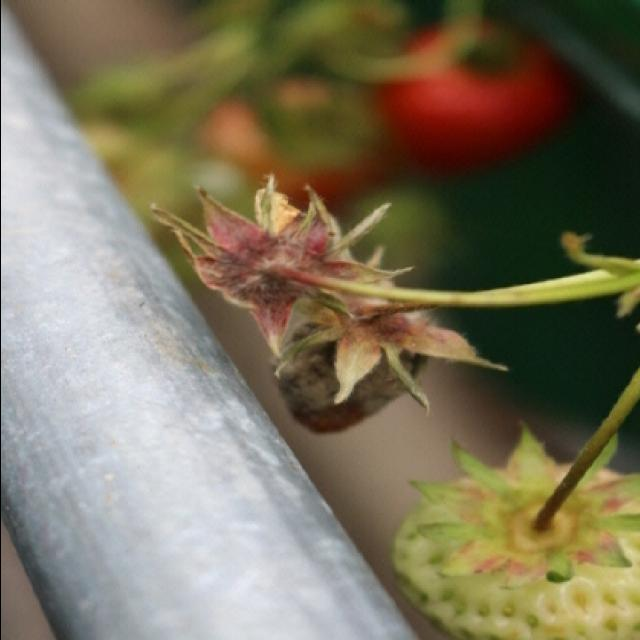Gray Mold: (150, 182, 412, 363), (273, 290, 477, 437)
